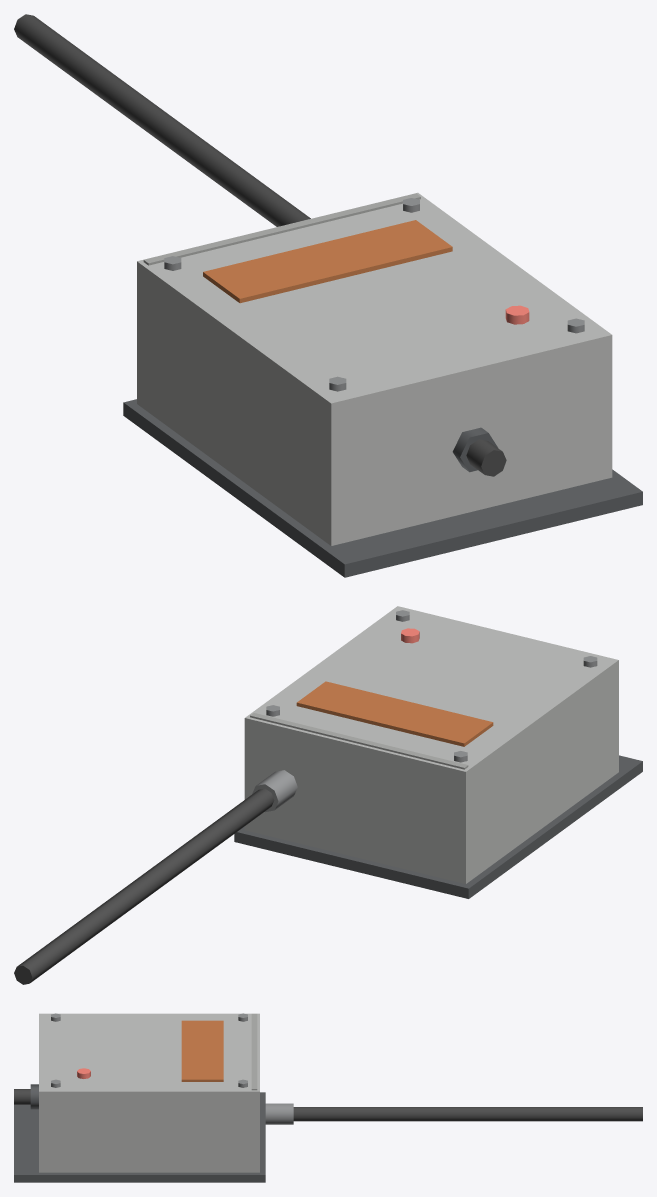
File: lwTx_steel.glb
The picture shows the model from 3 angles, top to bottom: view 1: azimuth 30°, elevation 25°; view 2: azimuth 150°, elevation 25°; view 3: azimuth 270°, elevation 25°; orthographic projection. The views are drawn at different scales.
Visible parts, largest first — view 1: lwTx_steel; view 2: lwTx_steel; view 3: lwTx_steel.
Boxes of the visible parts, x1,y1,x2,y2 form: lwTx_steel: [14, 14, 642, 577]; lwTx_steel: [14, 606, 642, 984]; lwTx_steel: [14, 1013, 642, 1182].
Size of the model in its own units: 0.14 by 0.074 by 0.45.
